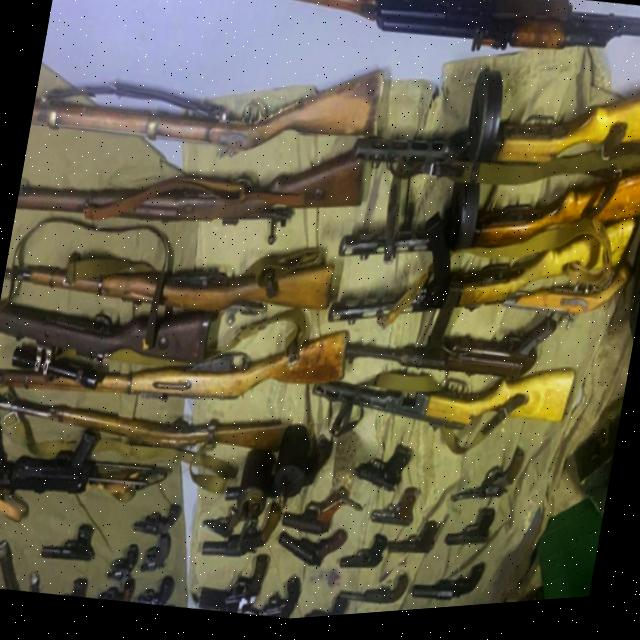firearm: (28, 16, 386, 189), (0, 276, 348, 449), (14, 103, 366, 271), (335, 124, 640, 316), (352, 46, 640, 226), (2, 209, 336, 344), (278, 0, 640, 106), (308, 332, 575, 462), (0, 372, 284, 479), (342, 265, 561, 403), (0, 280, 211, 412), (0, 408, 99, 508)
grenade: (264, 426, 314, 518), (232, 449, 279, 536)
pistol: (501, 250, 630, 336), (200, 496, 282, 571), (450, 446, 525, 520), (280, 482, 348, 544), (273, 523, 347, 577), (411, 560, 483, 613), (353, 442, 412, 499), (241, 571, 301, 626), (338, 568, 408, 614), (40, 516, 100, 568), (225, 552, 268, 612), (385, 518, 438, 565), (444, 508, 494, 557), (338, 533, 388, 580), (370, 486, 418, 534), (131, 500, 182, 541), (289, 594, 347, 623), (128, 573, 172, 611), (139, 530, 172, 576), (104, 541, 138, 584), (200, 505, 237, 543), (88, 575, 133, 606), (43, 571, 88, 601)
